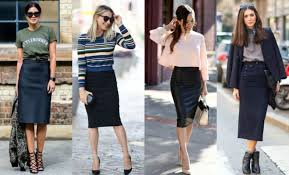F_tailored skirt: (81, 66, 124, 131)
